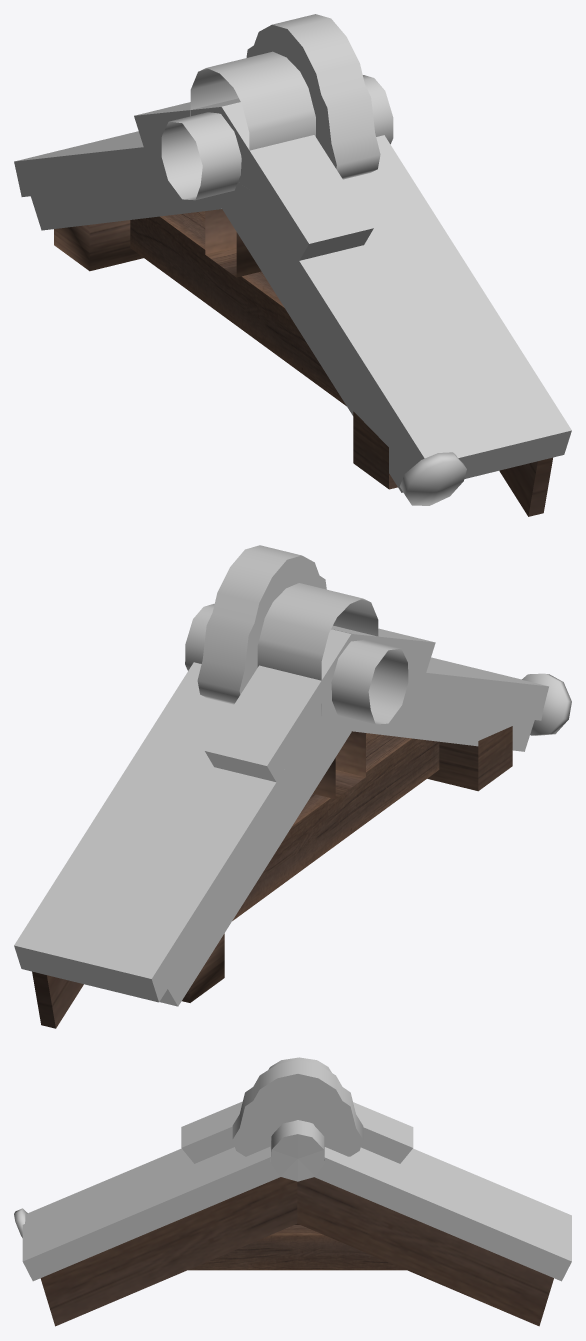
File: fence_top1a_end.fbx
3 views of the same model, one above another, from view 1: azimuth 30°, elevation 25°; view 2: azimuth 150°, elevation 25°; view 3: azimuth 270°, elevation 25° (orthographic). The views are drawn at different scales.
Visible parts, largest first — view 1: fence_top1a_end; view 2: fence_top1a_end; view 3: fence_top1a_end.
Boxes of the visible parts, x1,y1,x2,y2 form: fence_top1a_end: [14, 14, 571, 516]; fence_top1a_end: [14, 545, 571, 1028]; fence_top1a_end: [14, 1057, 571, 1326].
Bounding box in the file's own units: 40.56 × 73.72 × 153.
